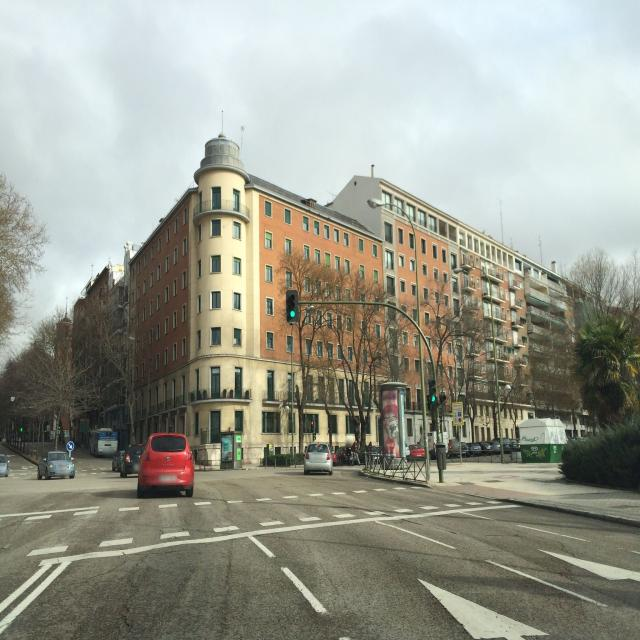car: (137, 432, 195, 498), (37, 450, 76, 480), (304, 442, 334, 475), (89, 428, 119, 458), (120, 443, 144, 478), (446, 440, 468, 458), (333, 444, 348, 466), (112, 448, 125, 472), (502, 438, 520, 453), (0, 453, 9, 478), (466, 442, 482, 456)
